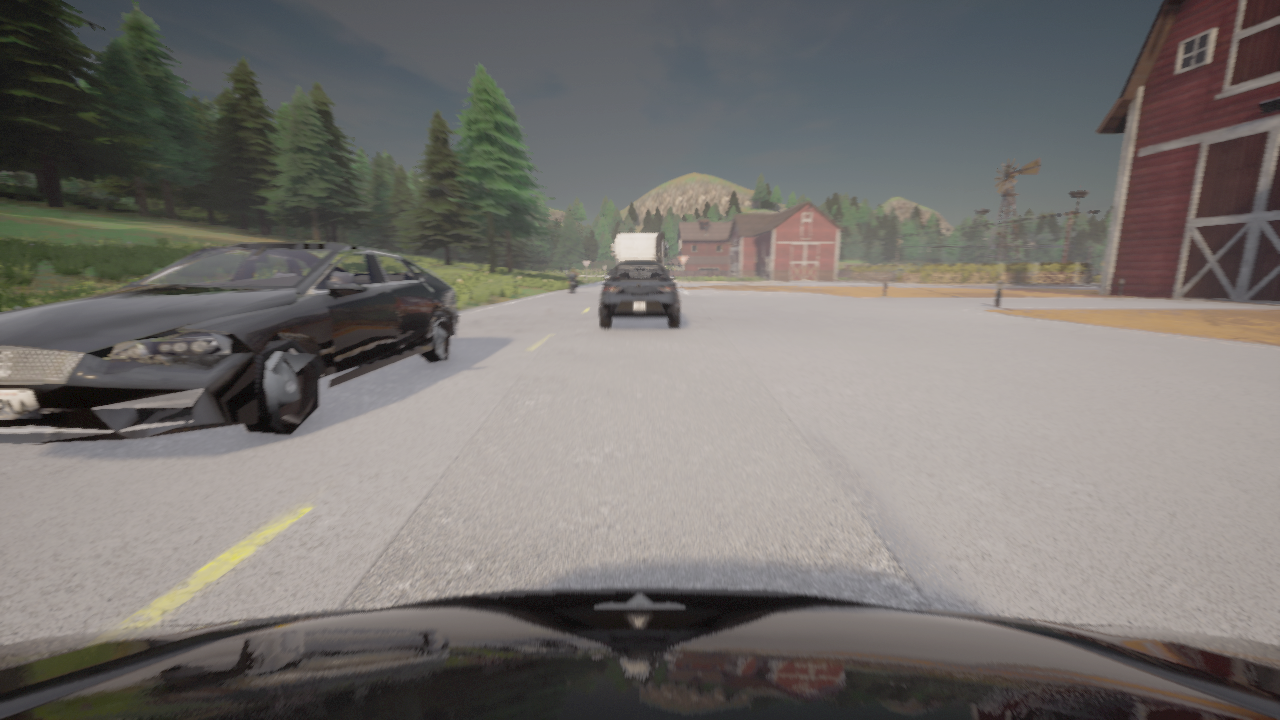cyclist: (0, 588, 1279, 719), (0, 244, 458, 444), (600, 261, 679, 328), (611, 232, 668, 273), (569, 274, 578, 293), (608, 271, 611, 275), (1095, 272, 1102, 273)
